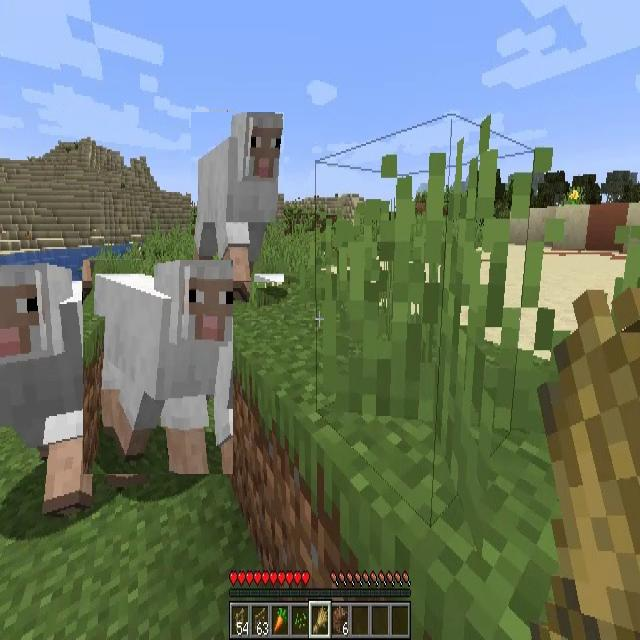sheep: (83, 260, 233, 474), (0, 263, 100, 501), (191, 112, 284, 282)
